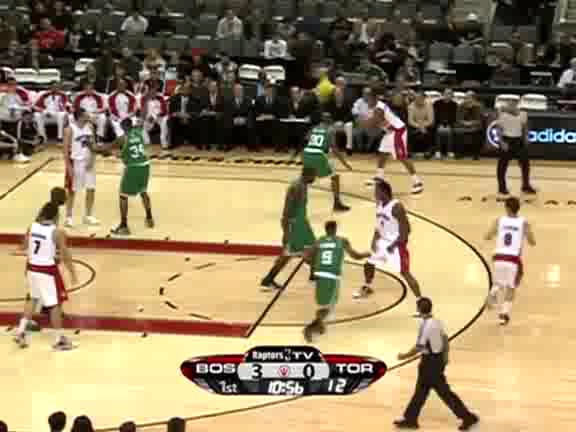person: (312, 230, 346, 311), (311, 230, 345, 311), (313, 230, 347, 311), (312, 229, 346, 310), (312, 231, 346, 312)
target_negative: (250, 270, 378, 397), (99, 383, 381, 429), (300, 112, 345, 311), (402, 183, 431, 412), (70, 159, 209, 174), (547, 109, 565, 135)
